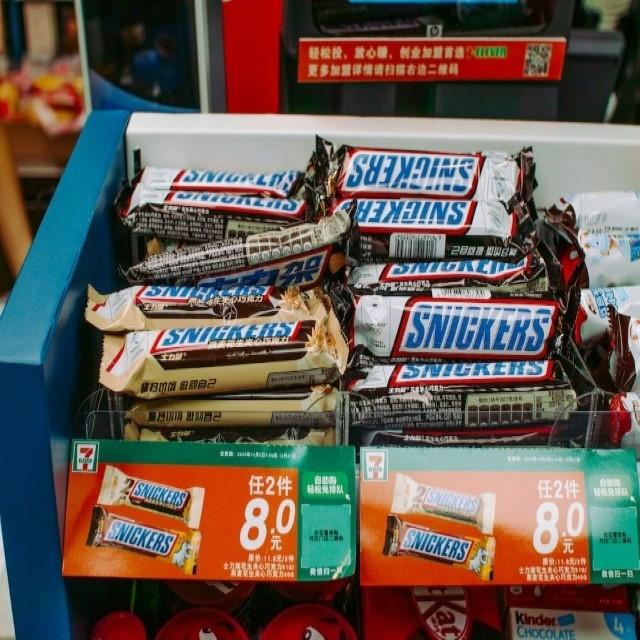snickers_chocolate: (327, 308, 615, 364), (135, 257, 353, 330), (348, 142, 544, 213), (338, 247, 572, 298), (146, 160, 326, 212), (115, 320, 343, 343)
